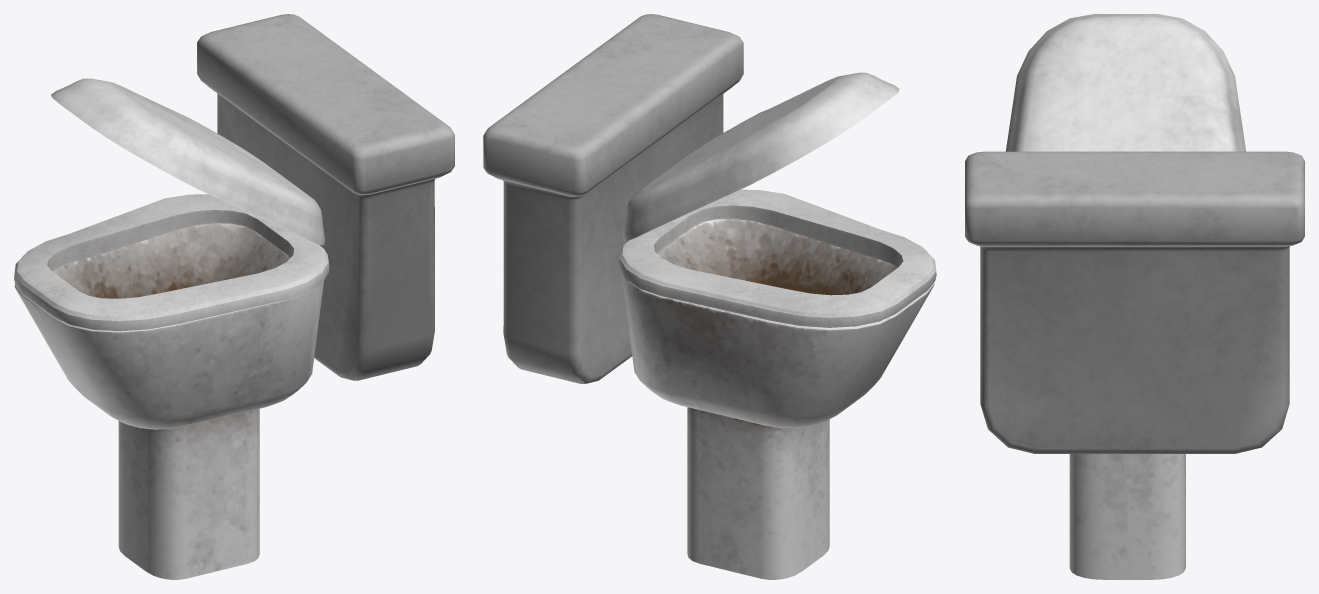
The model's file is Bathroom_Klozet.fbx.
3 renders of one model, left to right at view 1: azimuth 30°, elevation 25°; view 2: azimuth 150°, elevation 25°; view 3: azimuth 270°, elevation 25°, orthographic. The views are drawn at different scales.
Visible parts, largest first — view 1: Cube.006, Cube.009, Cube.007, Cube.008; view 2: Cube.006, Cube.009, Cube.007, Cube.008; view 3: Cube.009, Cube.008, Cube.006.
Boxes of the visible parts, x1,y1,x2,y2 form: Cube.006: (14,223,323,579); Cube.009: (197,14,454,380); Cube.007: (14,194,329,331); Cube.008: (51,78,324,245); Cube.006: (622,219,934,579); Cube.009: (483,14,743,383); Cube.007: (618,189,936,327); Cube.008: (623,72,899,241); Cube.009: (965,151,1304,453); Cube.008: (1005,14,1246,151); Cube.006: (1069,454,1185,579).
Size of the model in its own units: 92.02 by 122 by 75.99.
1 material, 1 textured.
